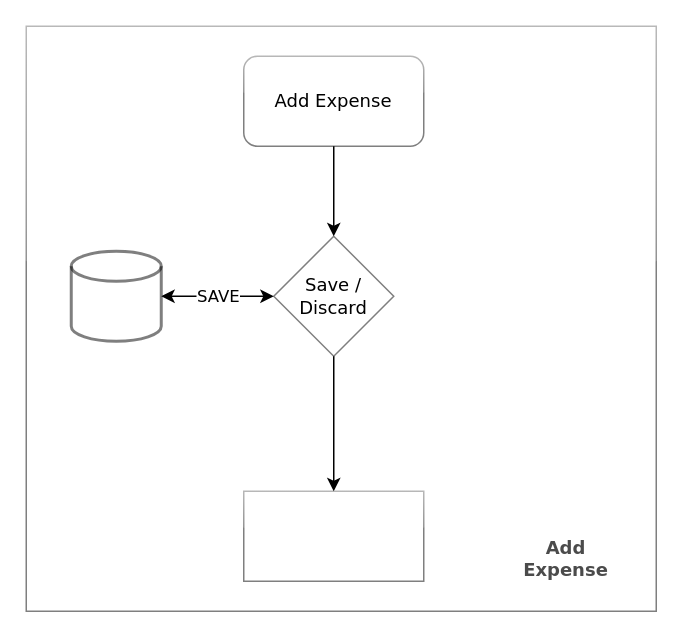
The diagram is 683 pixels wide and 638 high, and some of its shapes have lost their labels. Here are the shapes that lost their labels. From the top down, the box of each, then its label:
(69, 249, 162, 342): DB
(242, 490, 424, 581): Redirect to Previous page
